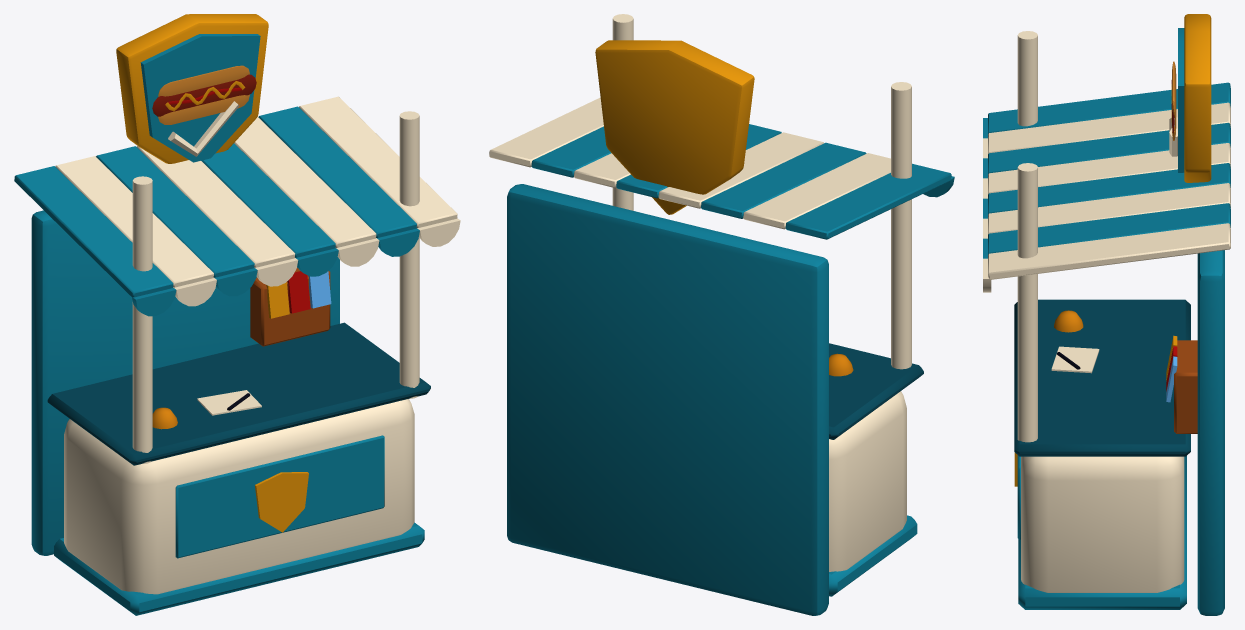
Rendered from InsuranceBooth.fbx.
3 renders of one model, left to right at view 1: azimuth 30°, elevation 25°; view 2: azimuth 150°, elevation 25°; view 3: azimuth 270°, elevation 25°, orthographic. The views are drawn at different scales.
Visible parts, largest first — view 1: InsuranceBooth; view 2: InsuranceBooth; view 3: InsuranceBooth.
Part boxes in pixels (box(x1,y1,x2,y2)): InsuranceBooth: box(14, 14, 460, 615); InsuranceBooth: box(489, 14, 954, 615); InsuranceBooth: box(983, 14, 1230, 615).
Bounding box in the file's own units: 5.6 × 8.34 × 3.65.
